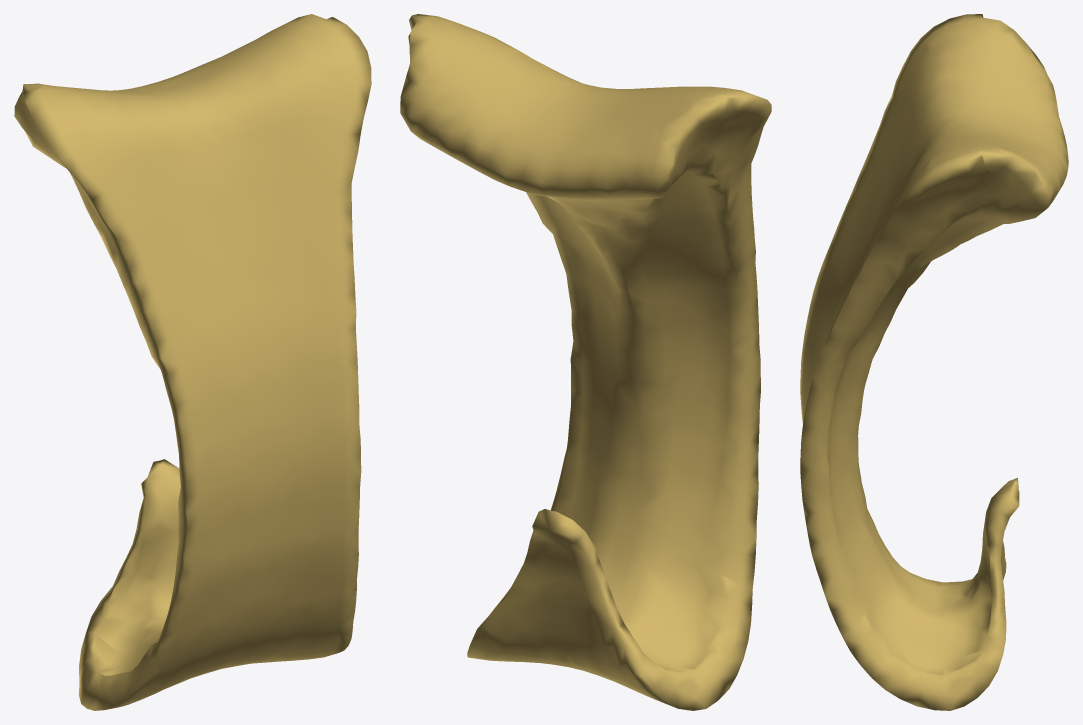
3 renders of one model, left to right at view 1: azimuth 30°, elevation 25°; view 2: azimuth 150°, elevation 25°; view 3: azimuth 270°, elevation 25°, orthographic. The views are drawn at different scales.
Visible parts, largest first — view 1: 胼胝体; view 2: 胼胝体; view 3: 胼胝体.
Boxes of the visible parts, x1,y1,x2,y2 form: 胼胝体: [14, 14, 371, 710]; 胼胝体: [400, 14, 771, 710]; 胼胝体: [800, 14, 1068, 710].
Bounding box in the file's own units: 0.0736 × 0.1308 × 0.0555.
